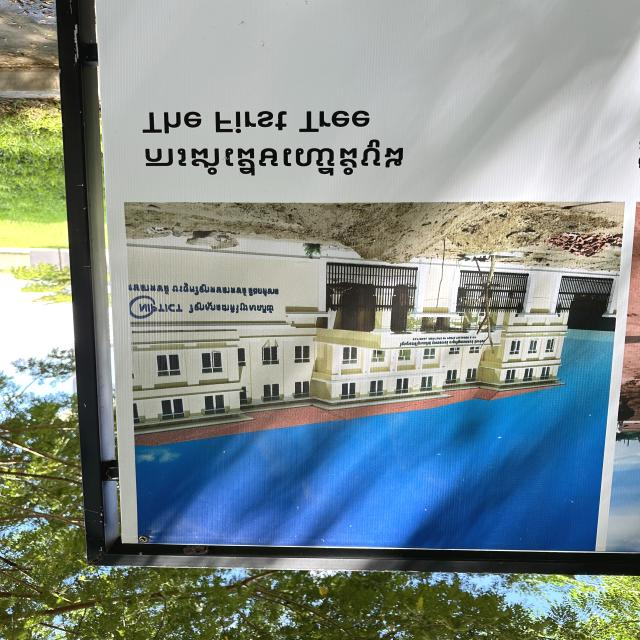Yolov11kh: (130, 131, 418, 181)
